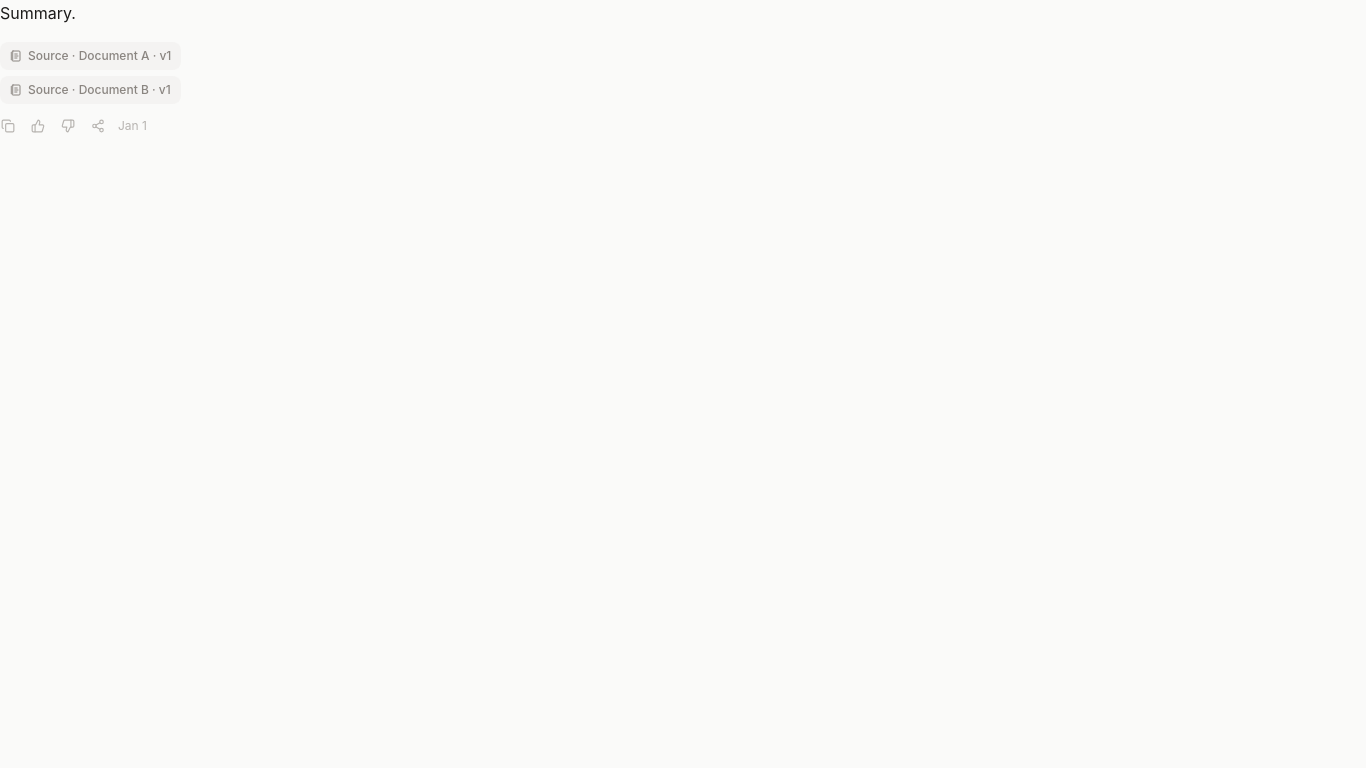
Test: Message — source chip layout alignment (Runtime Activity Truthfulness + Source Chip Alignment corrective pass) › (B) each source row remains individually clickable, opening its own drawer with its own distinct content
The width and height of the screenshot is (1366, 768).
Click the button "Source · Document A · v1" at (91, 56), box [0,42,181,70]
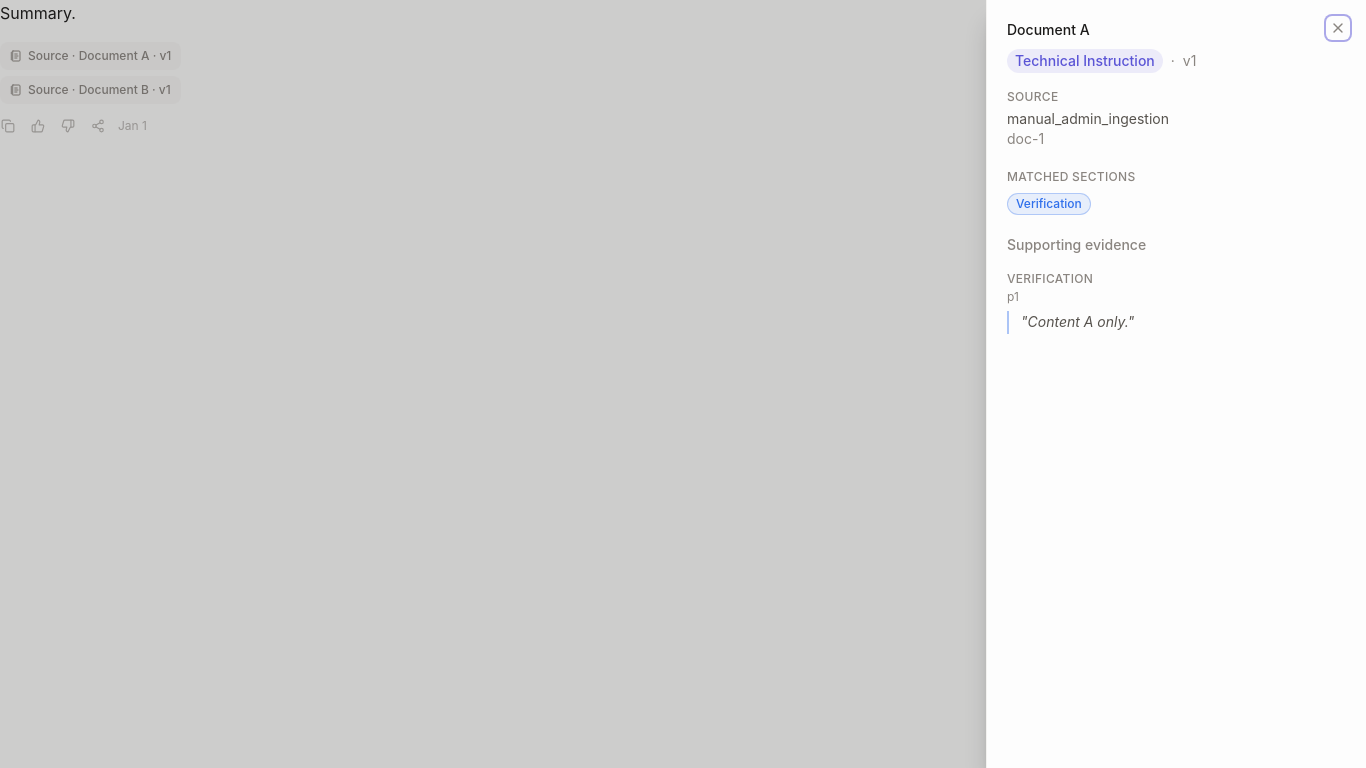
Expected: the text "\"Content A only.\"" is shown, [1007,311,1346,334]
